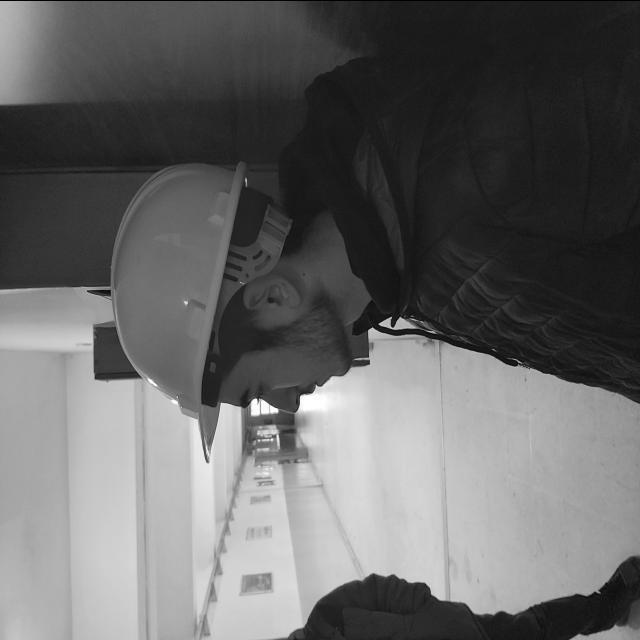safety_helmet: (109, 159, 294, 462)
